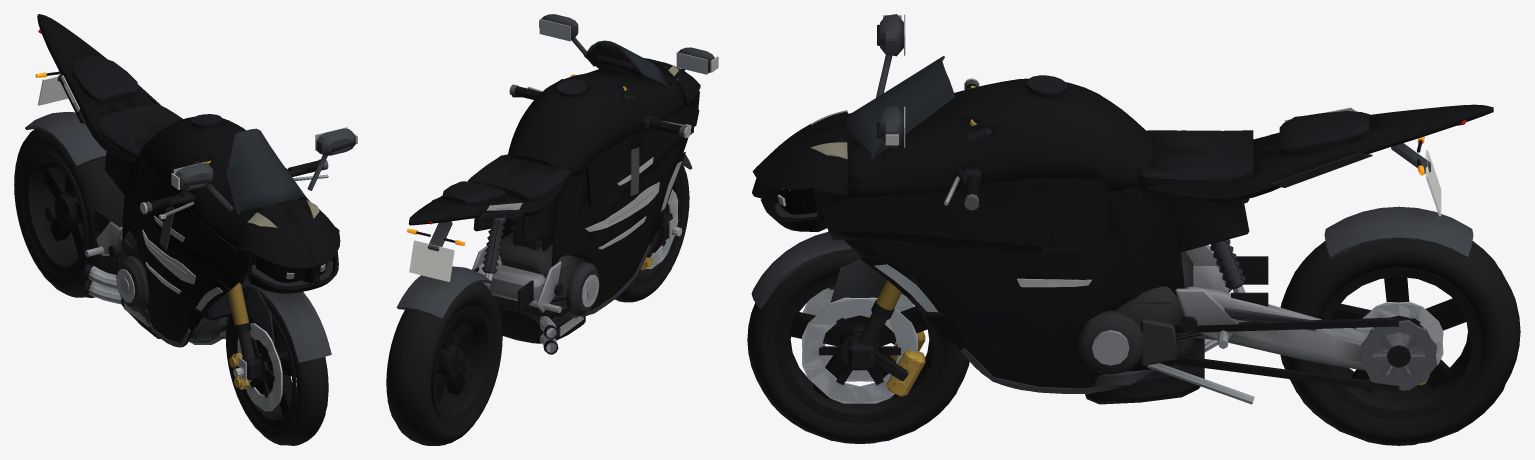
Rendered from bike13_panigale_black.glb.
The picture shows the model from 3 angles, left to right: view 1: azimuth 30°, elevation 25°; view 2: azimuth 150°, elevation 25°; view 3: azimuth 270°, elevation 25°; orthographic projection. The views are drawn at different scales.
Parts seen in each view (by area): view 1: body (×2), wheel_rear (×2), wheel_front (×2), disc_front (×2), handlebar (×2), fork_right; view 2: body (×2), wheel_rear (×2), wheel_front (×2), handlebar (×2), disc_front (×2); view 3: body (×2), wheel_rear (×2), wheel_front (×2), disc_front (×2), fork_left (×2), disc_rear, handlebar.
Part boxes in pixels (x1=…): body (×2): x1=25, y1=14, x2=357, y2=362; wheel_rear (×2): x1=14, y1=128, x2=124, y2=297; wheel_front (×2): x1=225, y1=287, x2=328, y2=445; disc_front (×2): x1=237, y1=323, x2=296, y2=411; handlebar (×2): x1=140, y1=159, x2=328, y2=380; fork_right: x1=205, y1=161, x2=261, y2=387; body (×2): x1=397, y1=14, x2=718, y2=354; wheel_rear (×2): x1=386, y1=282, x2=502, y2=445; wheel_front (×2): x1=615, y1=164, x2=689, y2=302; handlebar (×2): x1=509, y1=84, x2=691, y2=239; disc_front (×2): x1=646, y1=189, x2=678, y2=268; body (×2): x1=751, y1=14, x2=1493, y2=404; wheel_rear (×2): x1=1280, y1=240, x2=1520, y2=445; wheel_front (×2): x1=747, y1=252, x2=969, y2=443; disc_front (×2): x1=802, y1=287, x2=917, y2=403; fork_left (×2): x1=848, y1=119, x2=976, y2=396; disc_rear: x1=1356, y1=302, x2=1443, y2=364; handlebar: x1=944, y1=78, x2=981, y2=210.
Size of the model in its own units: 0.747 by 1.12 by 2.06.
